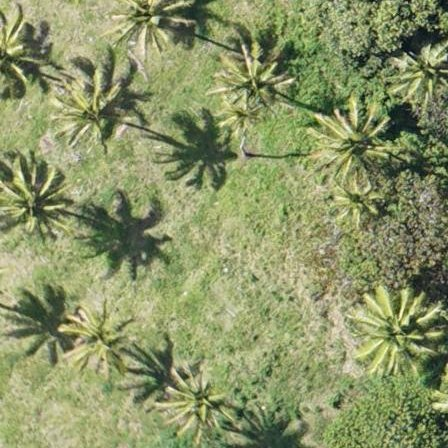palm_tree: (355, 292, 429, 370), (58, 63, 127, 142), (316, 103, 389, 174), (1, 159, 68, 235), (213, 44, 282, 115), (160, 365, 226, 437), (60, 305, 130, 372), (107, 1, 187, 52), (395, 43, 448, 109), (326, 177, 384, 225)
